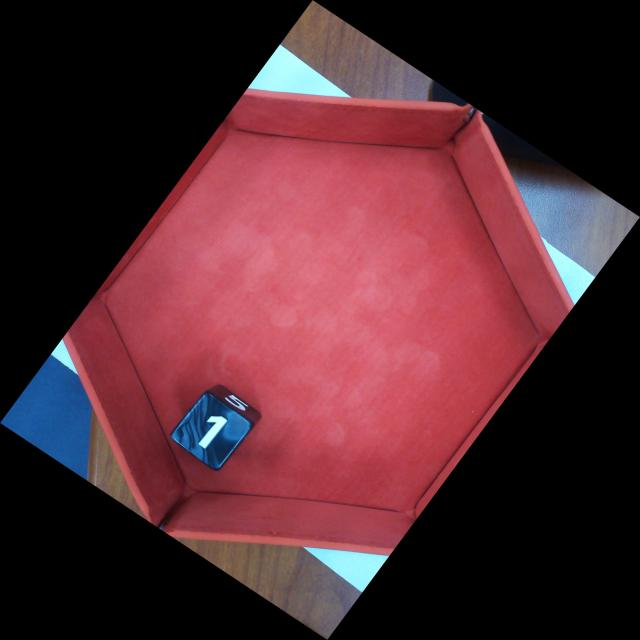dice: (167, 391, 254, 474)
